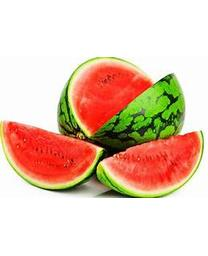watermelon: (56, 56, 185, 170), (0, 120, 103, 193), (95, 130, 204, 197)
